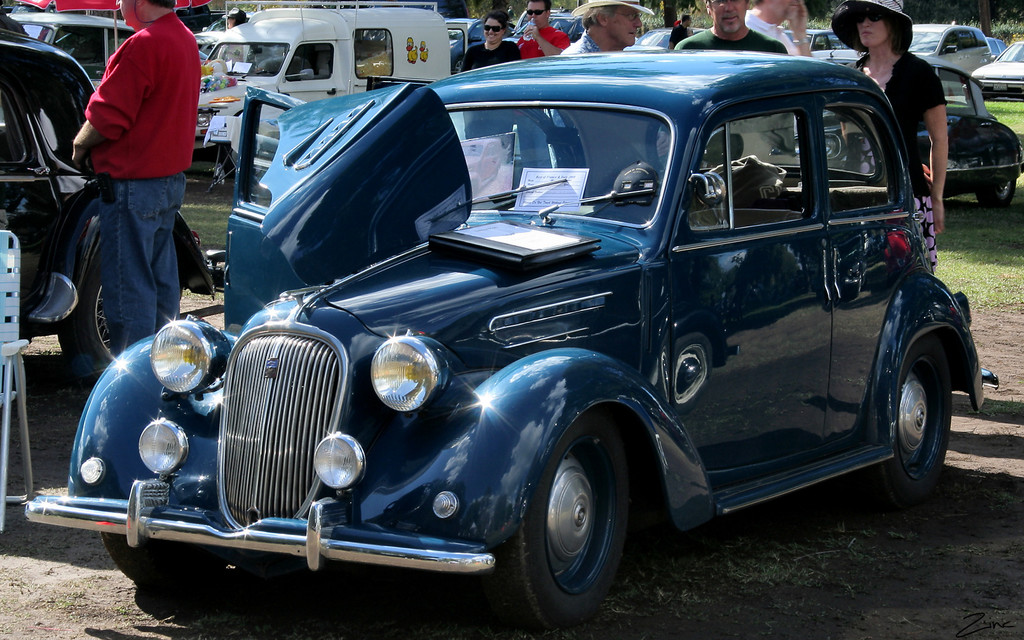Car: (3, 0, 1023, 381)
